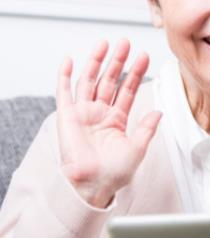down: (52, 37, 165, 187)
